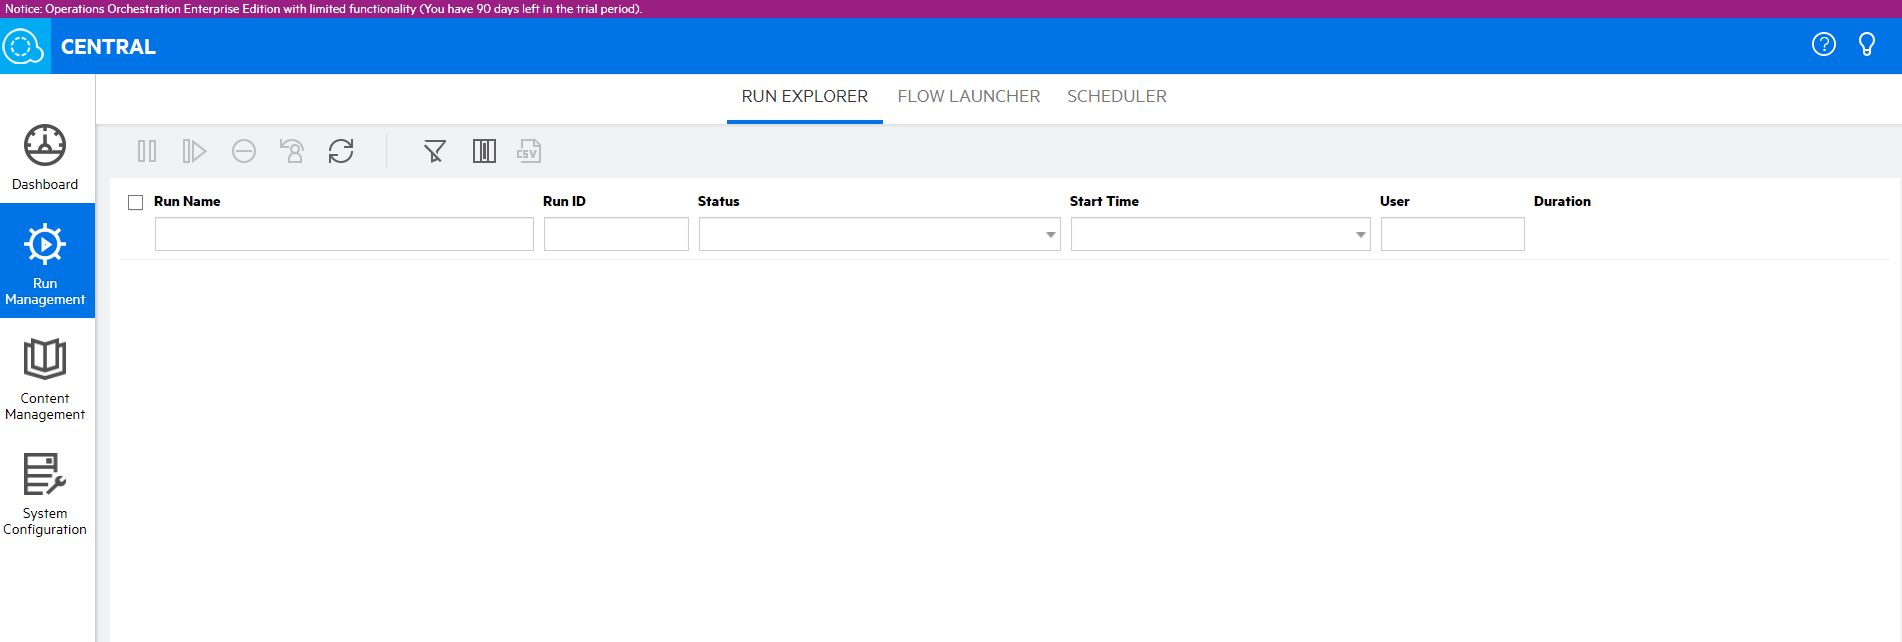button: (502, 123, 562, 186), (314, 127, 369, 181), (404, 124, 451, 172), (169, 129, 217, 172), (218, 131, 264, 176), (264, 133, 311, 176), (469, 119, 500, 178), (121, 133, 166, 170)
checkbox: (120, 187, 146, 211)
dropdown: (691, 209, 1066, 266), (1066, 209, 1377, 266)
textbox: (150, 208, 539, 257), (1374, 200, 1541, 268), (537, 214, 697, 257)
